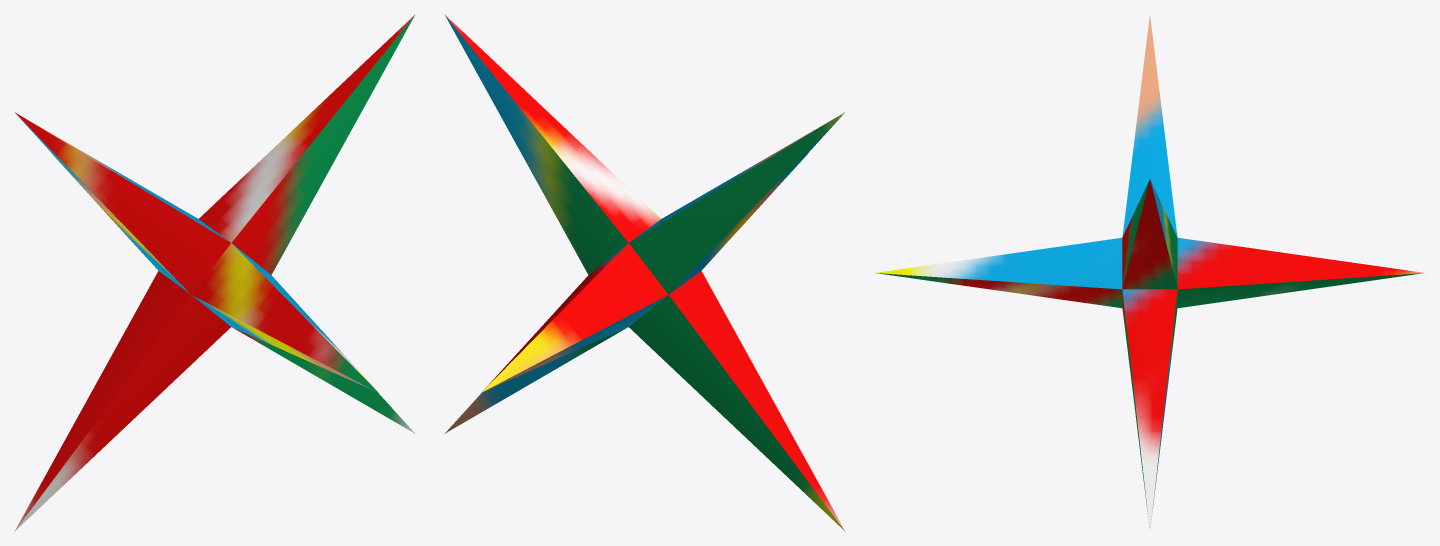
Rendered from star.fbx.
3 views of the same model, side by side, from view 1: azimuth 30°, elevation 25°; view 2: azimuth 150°, elevation 25°; view 3: azimuth 270°, elevation 25° (orthographic). The views are drawn at different scales.
Parts seen in each view (by area): view 1: Mesh Object; view 2: Mesh Object; view 3: Mesh Object.
Boxes of the visible parts, x1=… form: Mesh Object: x1=14, y1=14, x2=415, y2=531; Mesh Object: x1=444, y1=14, x2=845, y2=531; Mesh Object: x1=876, y1=15, x2=1423, y2=530.
Size of the model in its own units: 0.7071 by 0.7071 by 1.
